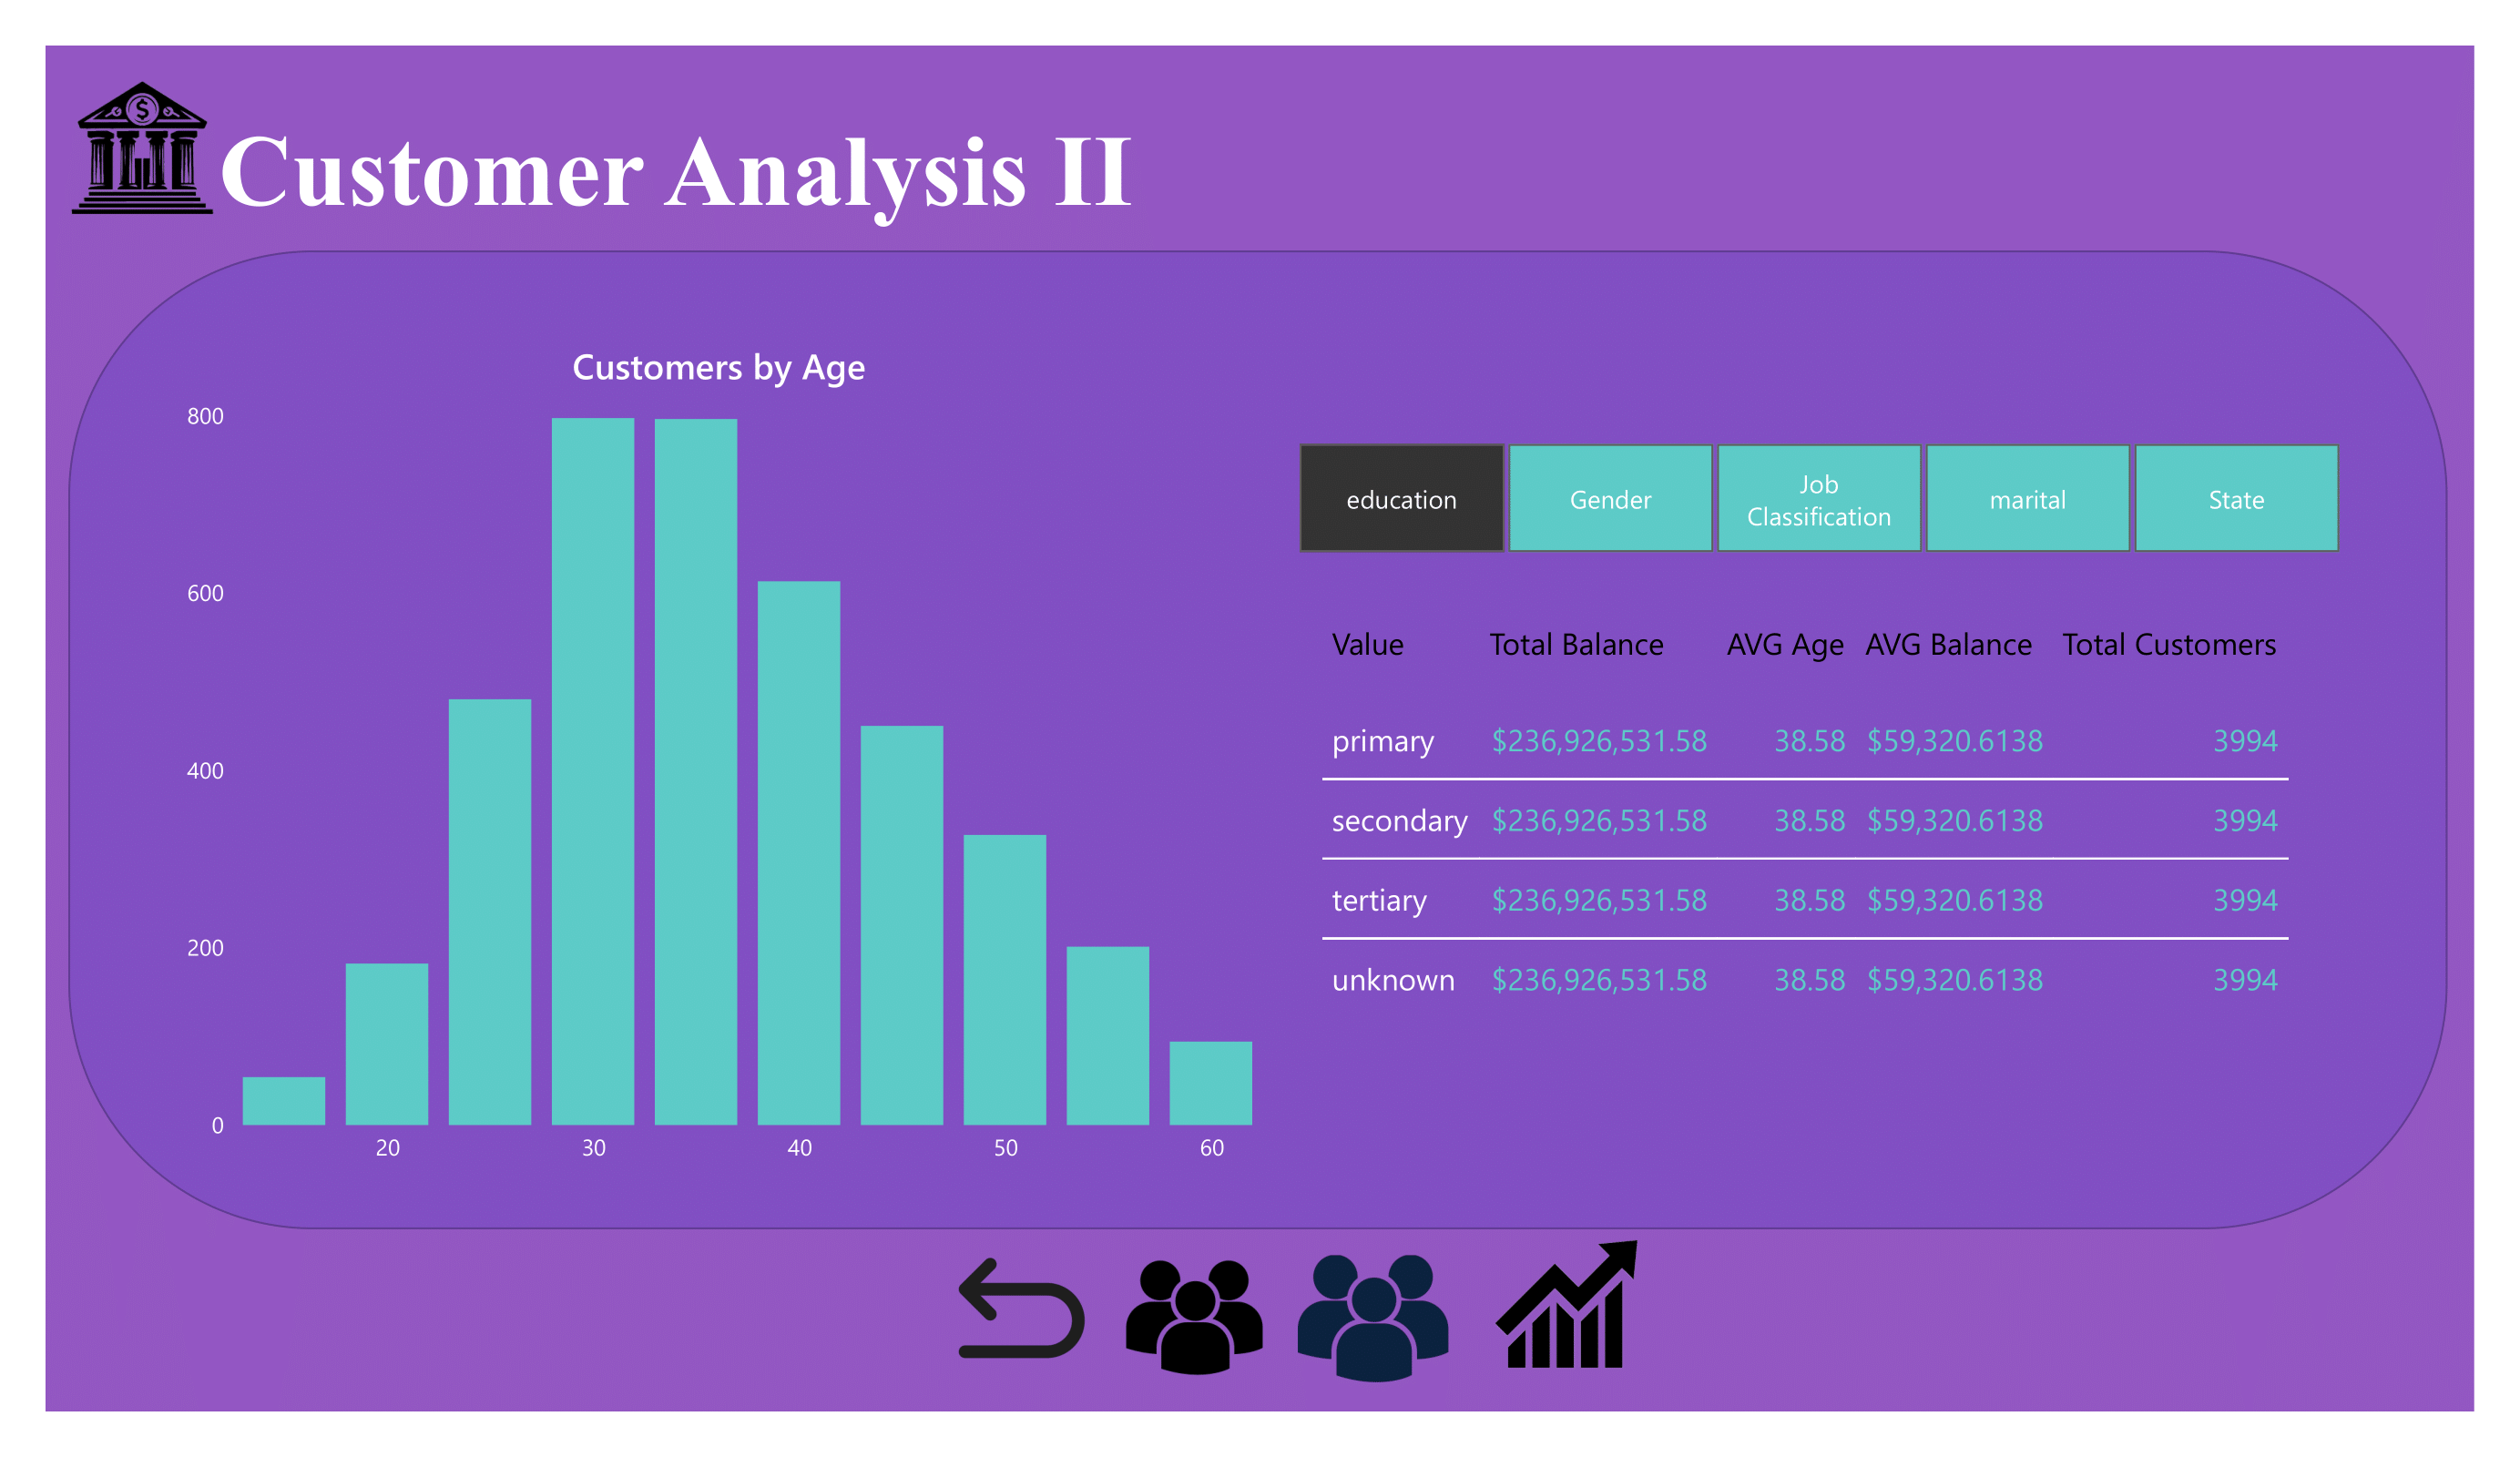

The page's visual inventory and layout, read from the dashboard file:
{"tool":"powerbi","page":{"name":"Customer 2","canvas":[1280,720],"ordinal":4},"visuals":[{"type":"shape","box":[11.5,108,1254.2,515.5],"z":0},{"type":"pivotTable","fields":{"Values":["Measure.Total Balance","Measure.AVG Age","Measure.AVG Balance","Measure.Total Customers"],"Rows":["Dim.Value"]},"box":[668.2,289.4,538.6,244.8],"z":1000},{"type":"slicer","fields":{"Values":["Dim.Name"]},"box":[635,203,597.6,70.6],"z":2000},{"type":"columnChart","title":"Customers by Age","fields":{"Y":["Measure.Total Customers"],"Category":["Bank data.Age (bins)"]},"box":[69.1,155.5,571.7,443.5],"z":3000},{"type":"textbox","title":"Customer Analysis II","box":[86.4,34.6,496.8,118.1],"z":4000},{"type":"image","box":[465.1,620.6,99.4,89.3],"z":5000},{"type":"image","box":[542.9,620.6,123.8,99.4],"z":6000},{"type":"image","box":[633.6,626.4,132.5,89.3],"z":7000},{"type":"image","box":[740.2,617.8,125.3,93.6],"z":8000},{"type":"image","box":[0,0,102.2,108],"z":9000}]}

Visuals, with their boxes on the page's 1280x720 design canvas (x1, y1, x2, y2). These are canvas units, not pixel positions in the 2520x1457 screenshot, which may show the page scaled, cropped or inside an application window:
shape: detection(12, 108, 1266, 624)
pivotTable - Measure.Total Balance x Measure.AVG Age: detection(668, 289, 1207, 534)
slicer - Dim.Name: detection(635, 203, 1233, 274)
"Customers by Age" columnChart: detection(69, 156, 641, 599)
"Customer Analysis II" textbox: detection(86, 35, 583, 153)
image: detection(465, 621, 564, 710)
image: detection(543, 621, 667, 720)
image: detection(634, 626, 766, 716)
image: detection(740, 618, 866, 711)
image: detection(0, 0, 102, 108)
